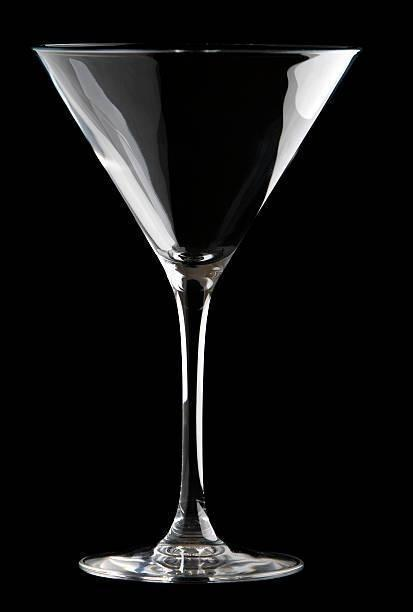glass-wine: (30, 35, 368, 584)
